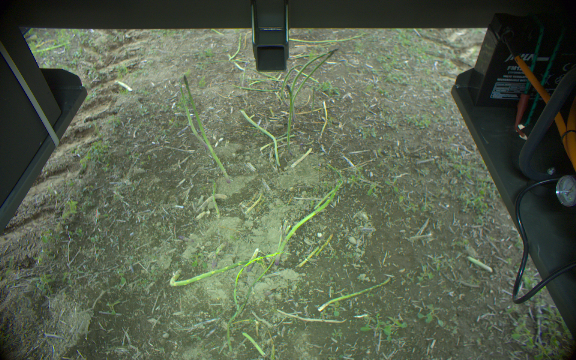aspa: (274, 179, 343, 266), (184, 75, 231, 185), (286, 49, 329, 146), (168, 251, 280, 285), (288, 48, 336, 107), (316, 275, 391, 312), (237, 108, 279, 166), (177, 87, 206, 149), (286, 84, 297, 123)
